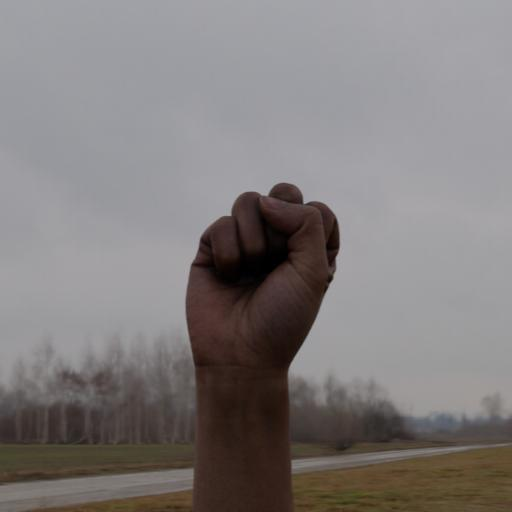S: (155, 164, 350, 512)
